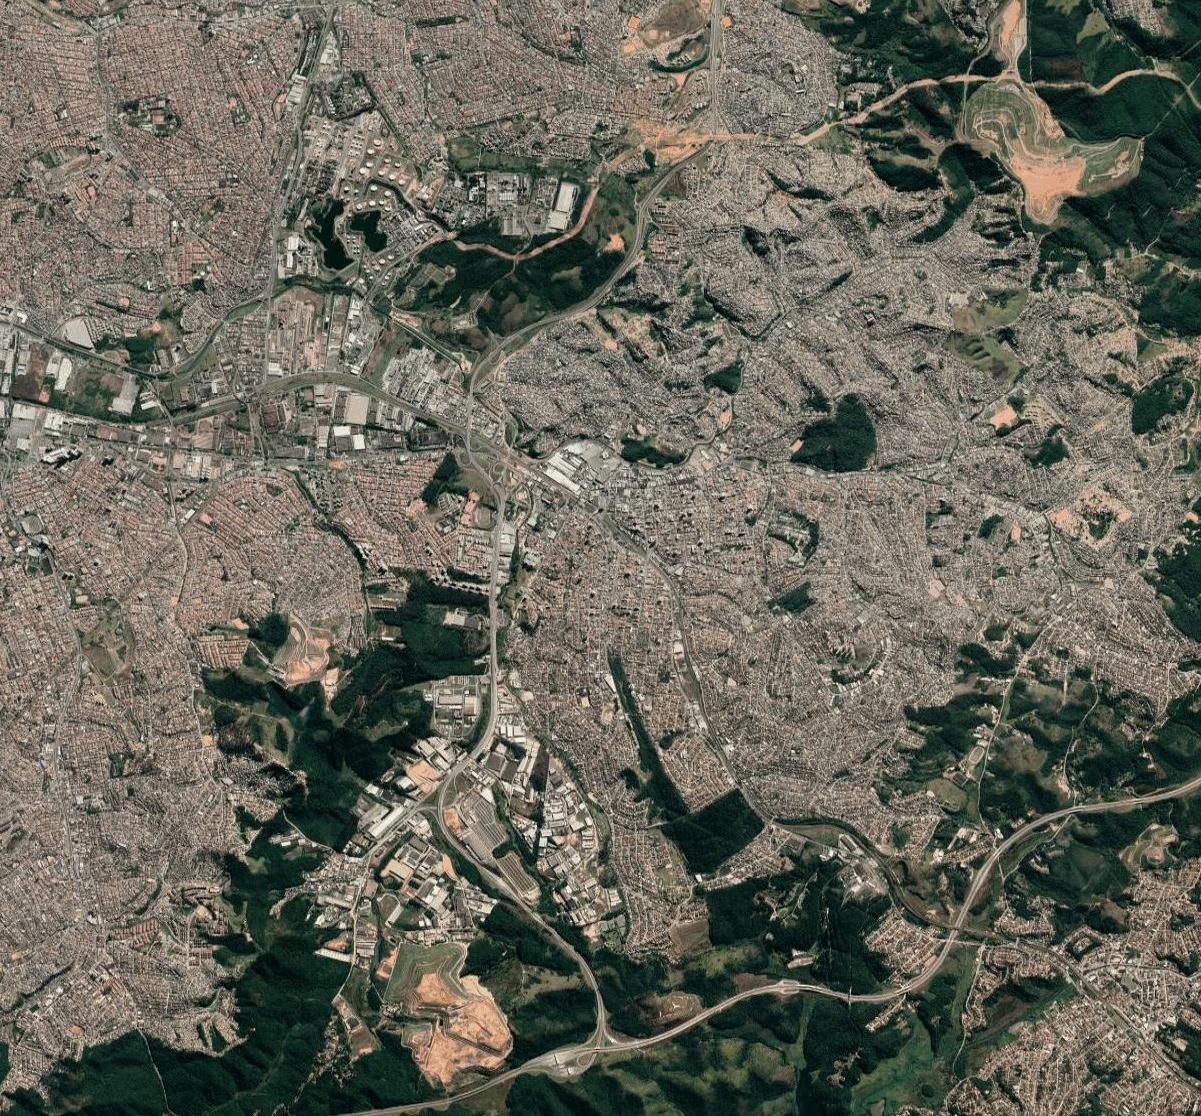motorway: (973, 813, 1063, 890), (1064, 772, 1201, 818), (453, 837, 531, 913), (601, 1012, 709, 1060), (492, 1037, 600, 1085), (922, 890, 975, 982), (541, 272, 621, 327), (710, 980, 817, 1020), (369, 1085, 492, 1116), (653, 136, 713, 194), (473, 320, 541, 369), (460, 684, 500, 768), (619, 189, 660, 270), (484, 519, 503, 684), (819, 973, 922, 1005), (469, 451, 508, 523), (531, 911, 584, 964), (431, 763, 462, 847), (581, 965, 610, 1034), (460, 372, 478, 455)
